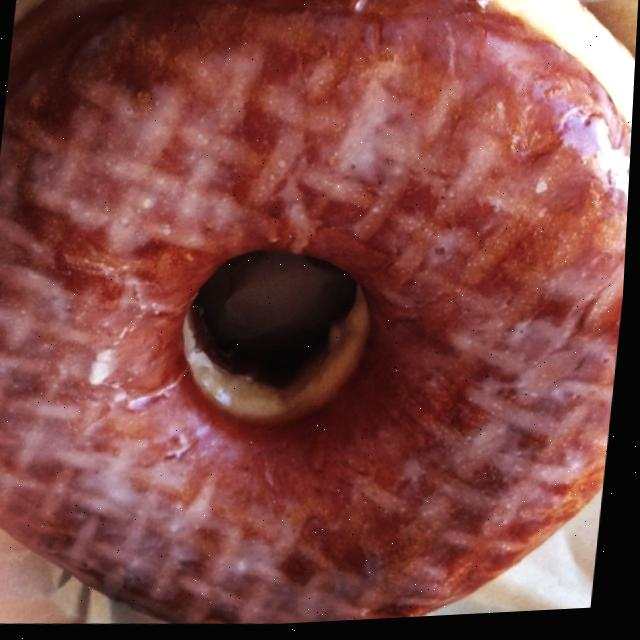炸货点心: (0, 0, 640, 622)
